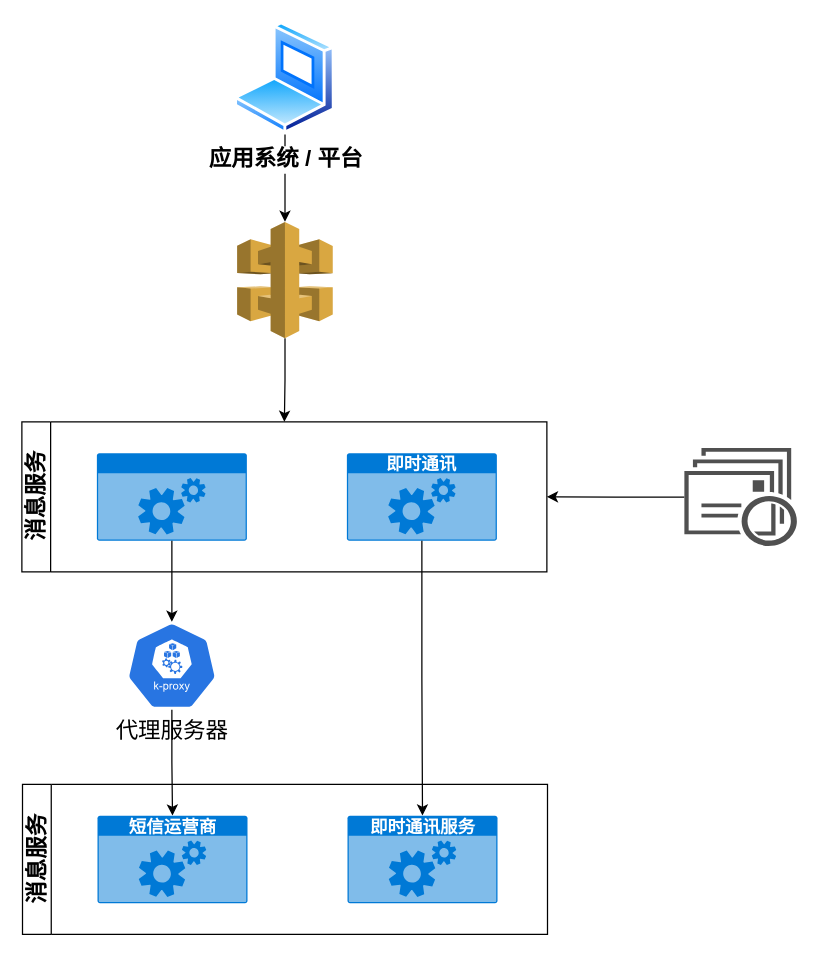
The diagram is 819 pixels wide and 956 high, and some of its shapes have lost their labels. Each missing label, with the centre of its shape:
消息队列: the point at 740,496
短信: the point at 171,496
网关: the point at 284,279
